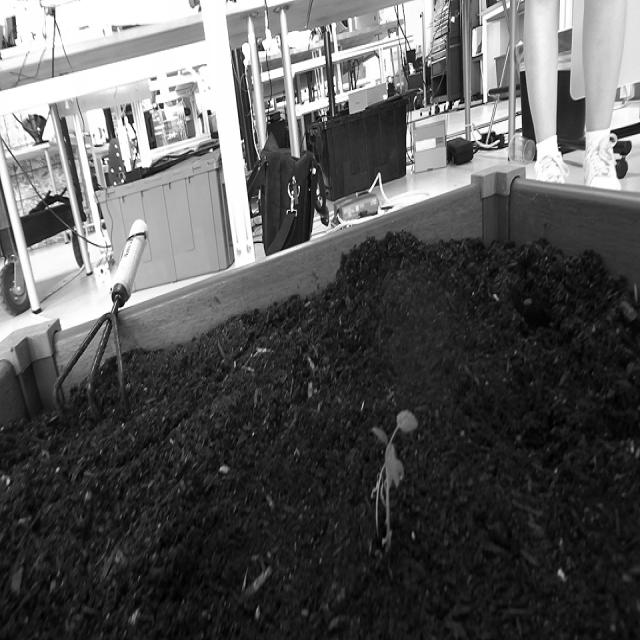Healthy: (370, 404, 420, 566)
